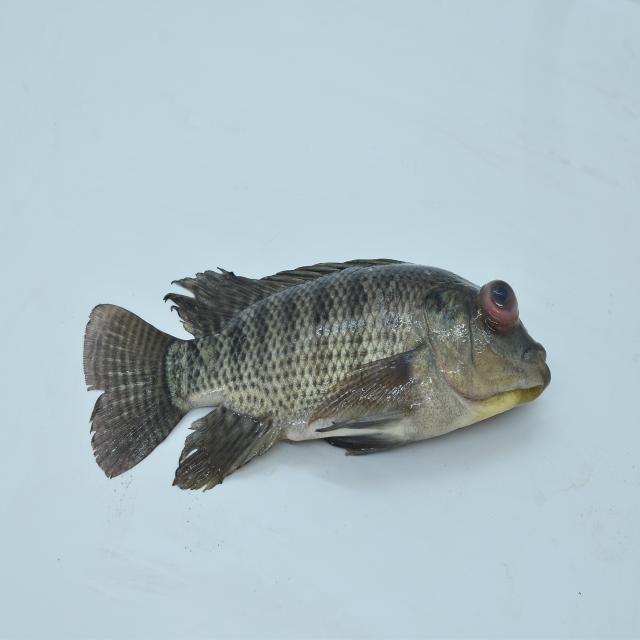streptococcus Disease: (83, 250, 554, 490)
